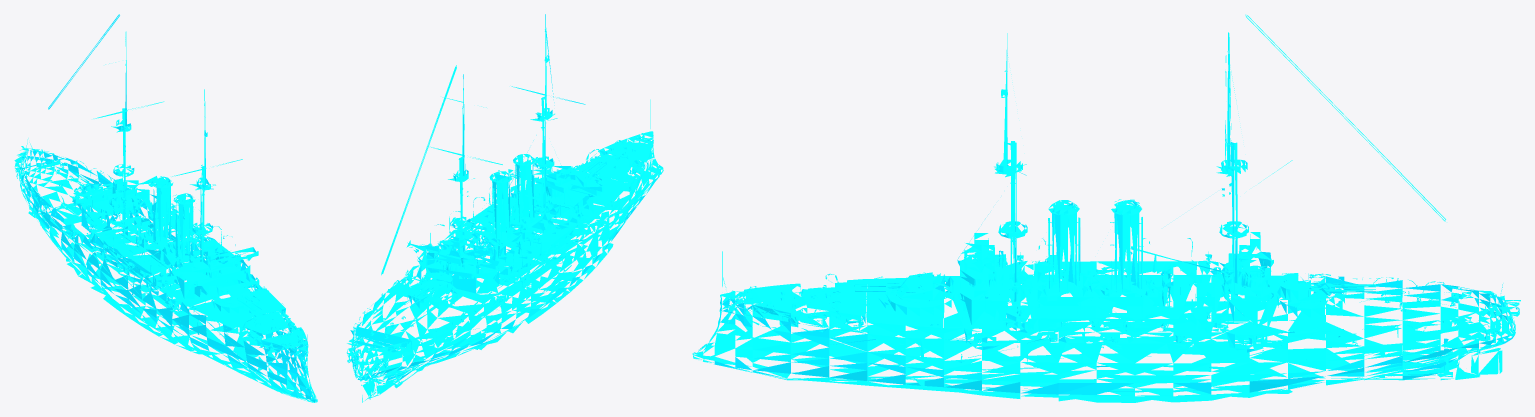
Rendered from PJSB011.glb.
The picture shows the model from 3 angles, left to right: view 1: azimuth 30°, elevation 25°; view 2: azimuth 150°, elevation 25°; view 3: azimuth 270°, elevation 25°; orthographic projection. The views are drawn at different scales.
Parts seen in each view (by area): view 1: hull_mid, hull_bow, hull_stern, main_battery, secondary_battery; view 2: hull_mid, hull_stern, hull_bow, main_battery, secondary_battery; view 3: hull_mid, hull_bow, hull_stern, main_battery, secondary_battery.
Boxes of the visible parts, x1,y1,x2,y2 form: hull_mid: [38, 31, 285, 373]; hull_bow: [223, 311, 317, 402]; hull_stern: [14, 14, 119, 241]; main_battery: [69, 173, 263, 311]; secondary_battery: [23, 162, 299, 349]; hull_mid: [372, 14, 630, 369]; hull_stern: [346, 65, 456, 402]; hull_bow: [571, 99, 663, 235]; main_battery: [404, 160, 606, 306]; secondary_battery: [356, 155, 643, 350]; hull_mid: [861, 32, 1364, 402]; hull_bow: [692, 251, 876, 385]; hull_stern: [1245, 14, 1520, 380]; main_battery: [854, 272, 1375, 302]; secondary_battery: [771, 251, 1469, 344].
Bounding box in the file's own units: 1.7 × 4.3 × 8.82.
